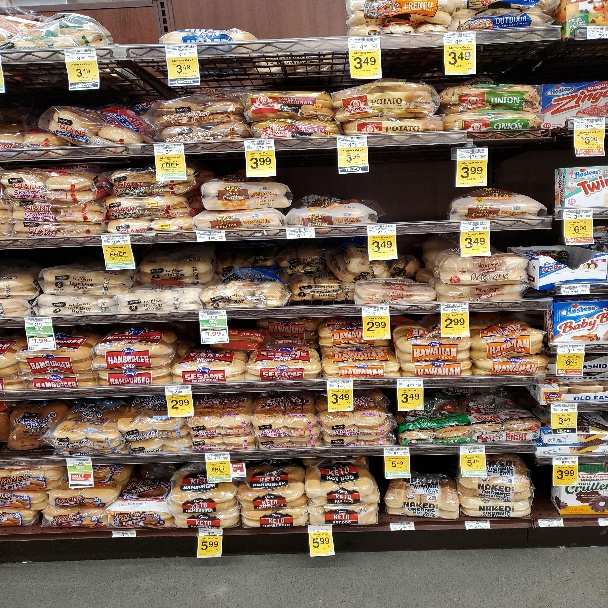All PRICE TAGS: (65, 48, 96, 62), (443, 31, 476, 44), (165, 44, 197, 57), (347, 35, 379, 48), (336, 136, 368, 148), (244, 139, 274, 151), (575, 118, 605, 129), (154, 143, 184, 154), (460, 220, 490, 231), (564, 209, 593, 220), (367, 224, 396, 235), (287, 227, 315, 238), (562, 284, 590, 294), (197, 231, 225, 241), (457, 149, 487, 158), (101, 235, 130, 244), (553, 456, 578, 466), (552, 403, 577, 413), (25, 317, 52, 326), (199, 310, 226, 319), (362, 306, 389, 315), (441, 303, 468, 312), (326, 379, 353, 388), (396, 378, 423, 387), (587, 27, 607, 39), (558, 344, 584, 353), (459, 445, 485, 454), (465, 520, 490, 529), (384, 446, 409, 455), (198, 527, 222, 536), (165, 385, 191, 393), (390, 522, 415, 530), (539, 519, 564, 527), (66, 457, 91, 465), (205, 453, 230, 461), (111, 529, 136, 537), (308, 524, 332, 532), (599, 517, 606, 526)
